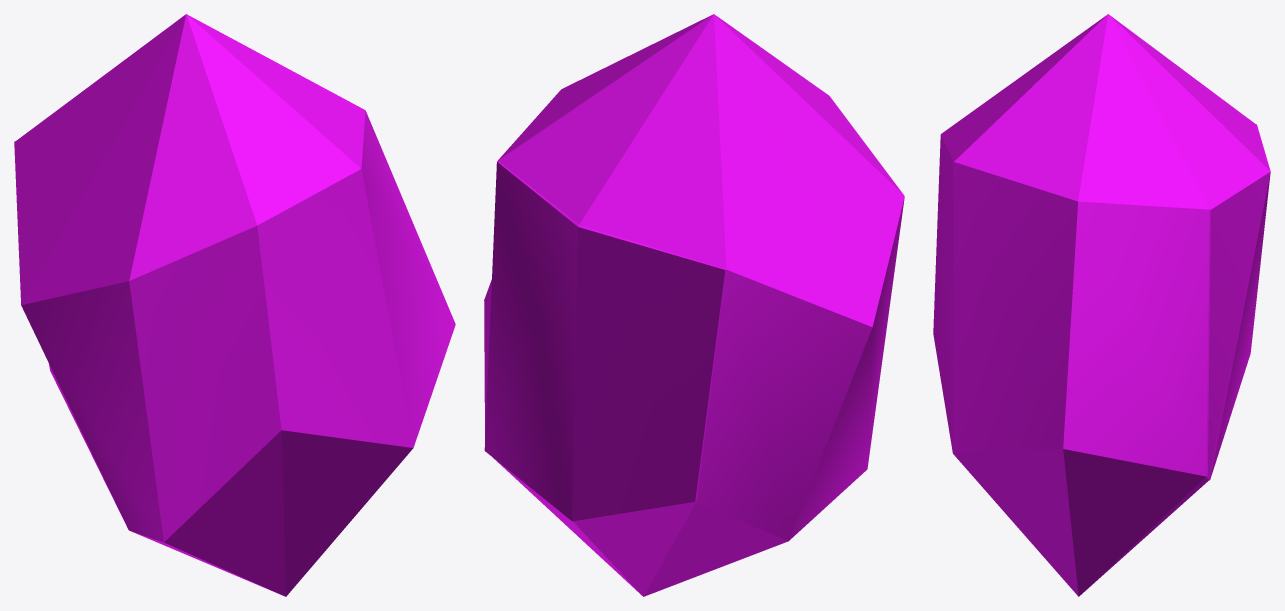
Rendered from gemheart.obj.
3 renders of one model, left to right at view 1: azimuth 30°, elevation 25°; view 2: azimuth 150°, elevation 25°; view 3: azimuth 270°, elevation 25°, orthographic. The views are drawn at different scales.
Parts seen in each view (by area): view 1: s.0073; view 2: s.0073; view 3: s.0073.
Part boxes in pixels (bbox=[...]): s.0073: bbox=[14, 14, 455, 596]; s.0073: bbox=[484, 14, 904, 596]; s.0073: bbox=[933, 14, 1270, 596].
Size of the model in its own units: 0.9705 by 1.36 by 0.7621.
